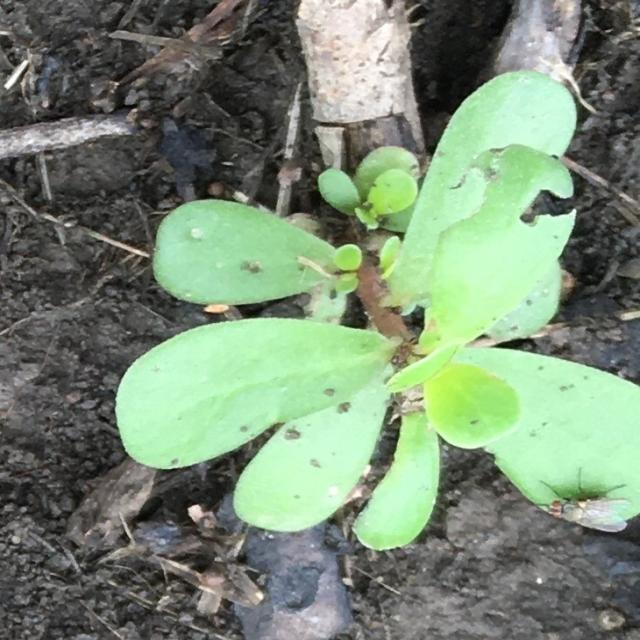Purslane: (115, 70, 640, 550)
